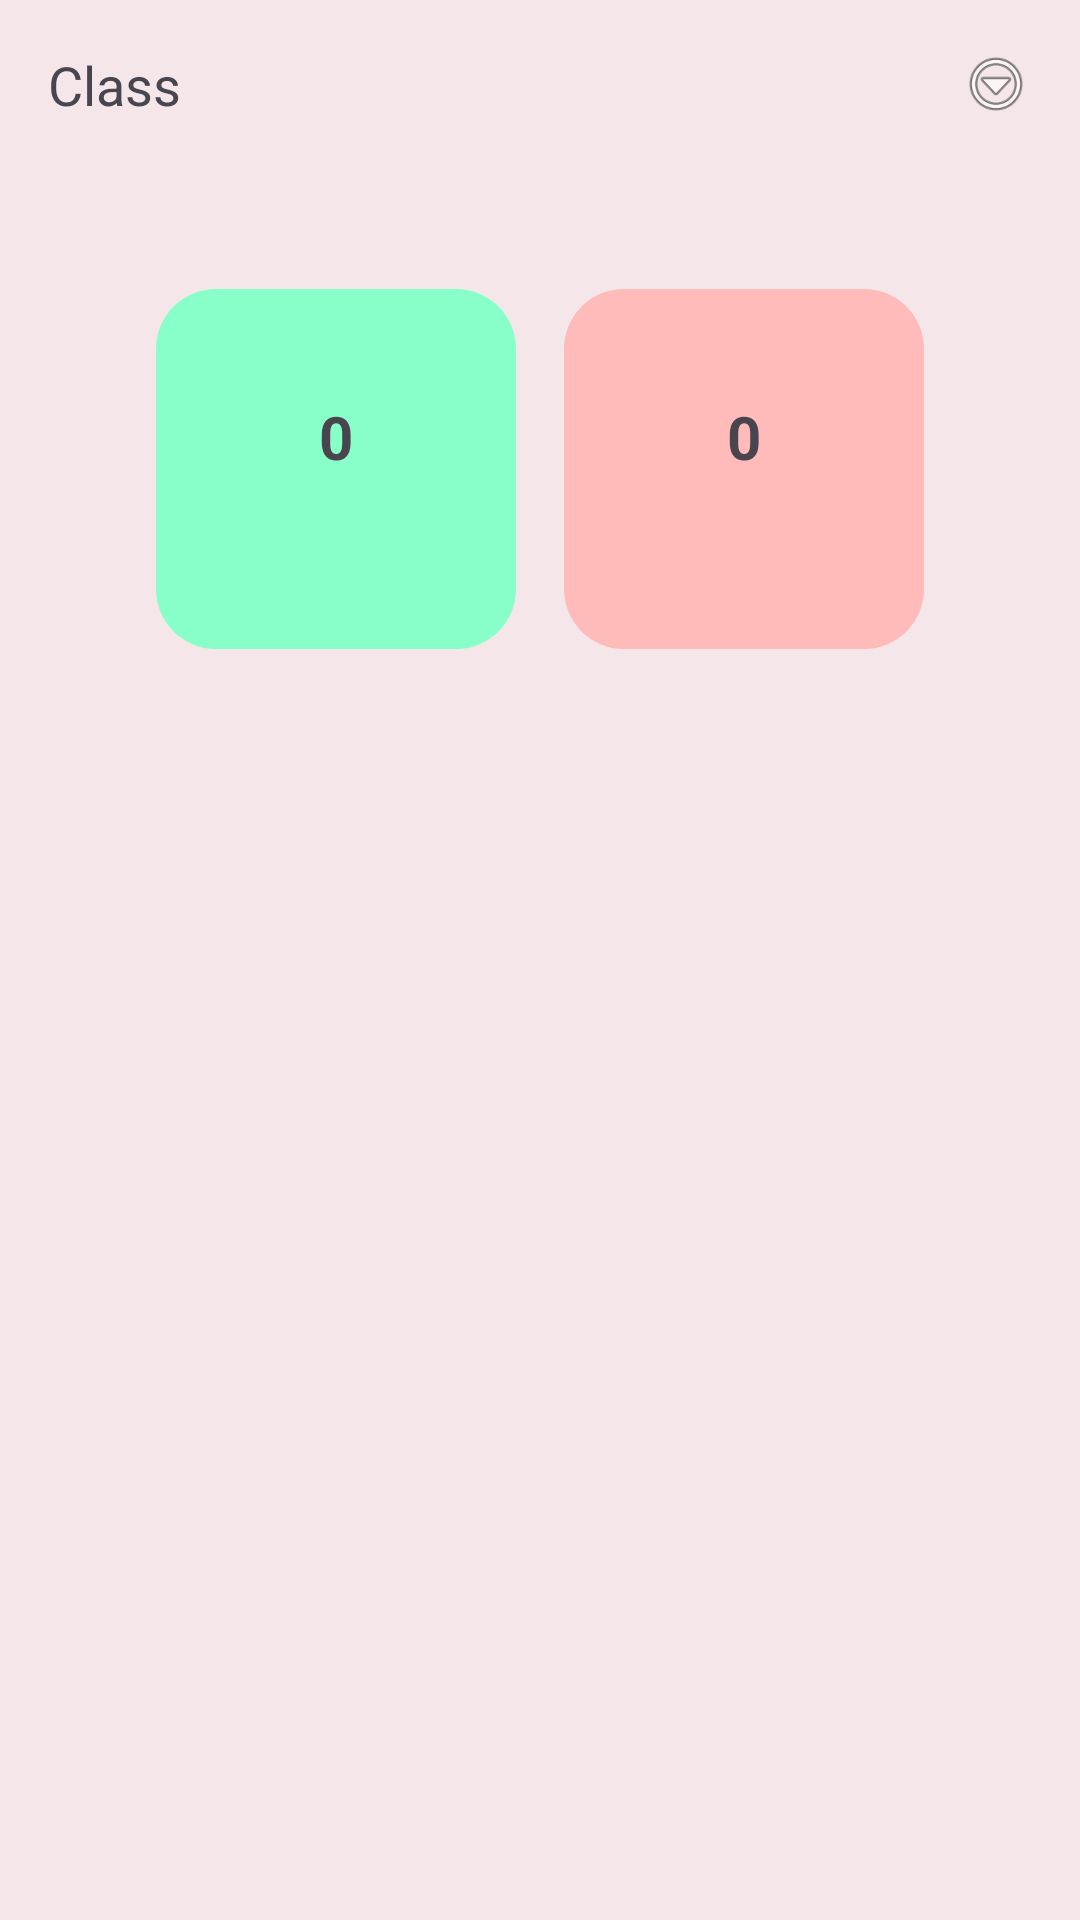

Icons on this 1080 × 1920 Android screen, each with the point to tap as (x,y):
more: (996,84)
